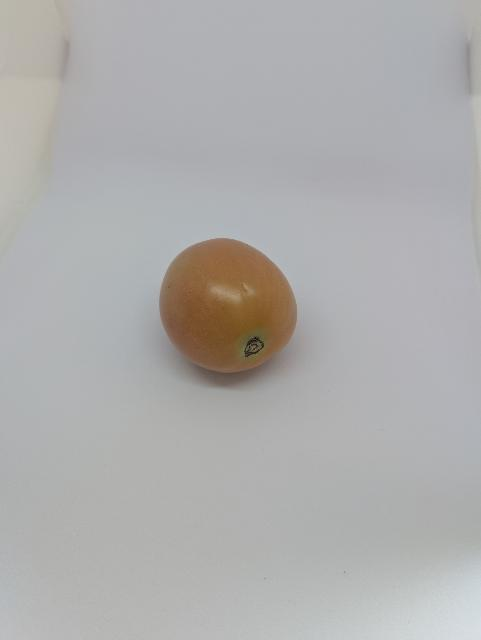turning: (156, 235, 305, 381)
